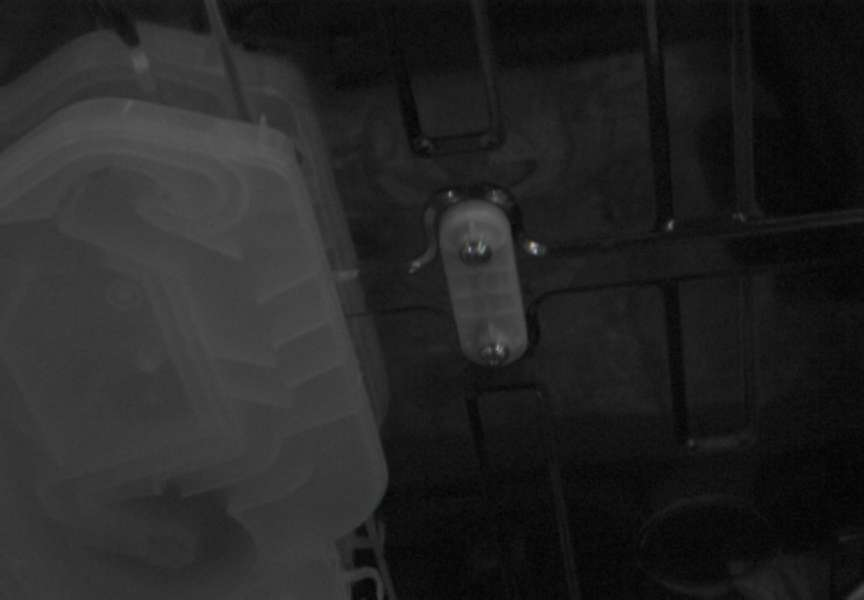screw: (459, 239, 492, 266), (479, 342, 509, 367)
